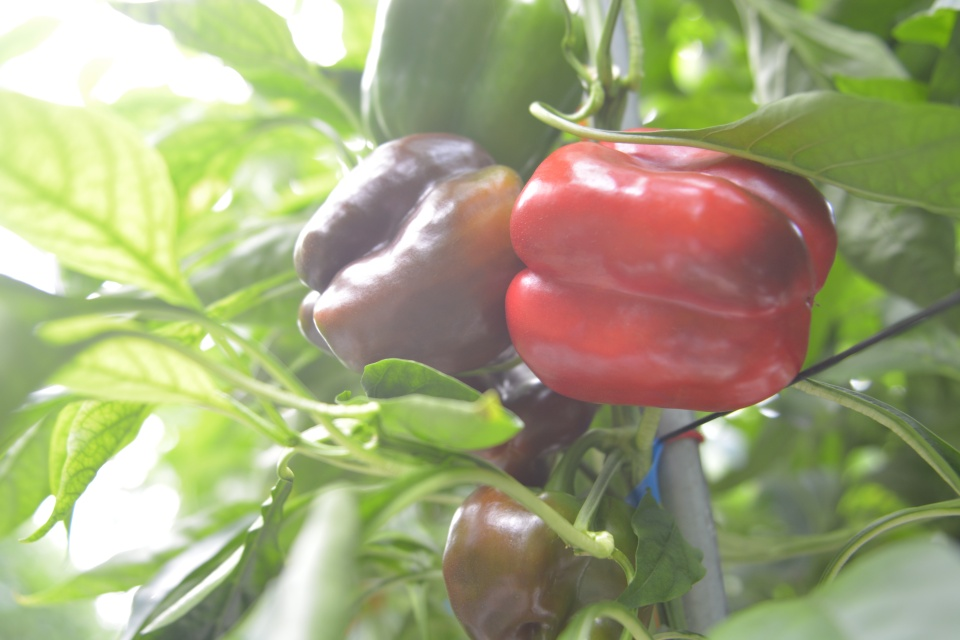fruit: (502, 127, 839, 416), (290, 129, 525, 377), (359, 0, 588, 184), (441, 481, 656, 640), (453, 362, 603, 490)
